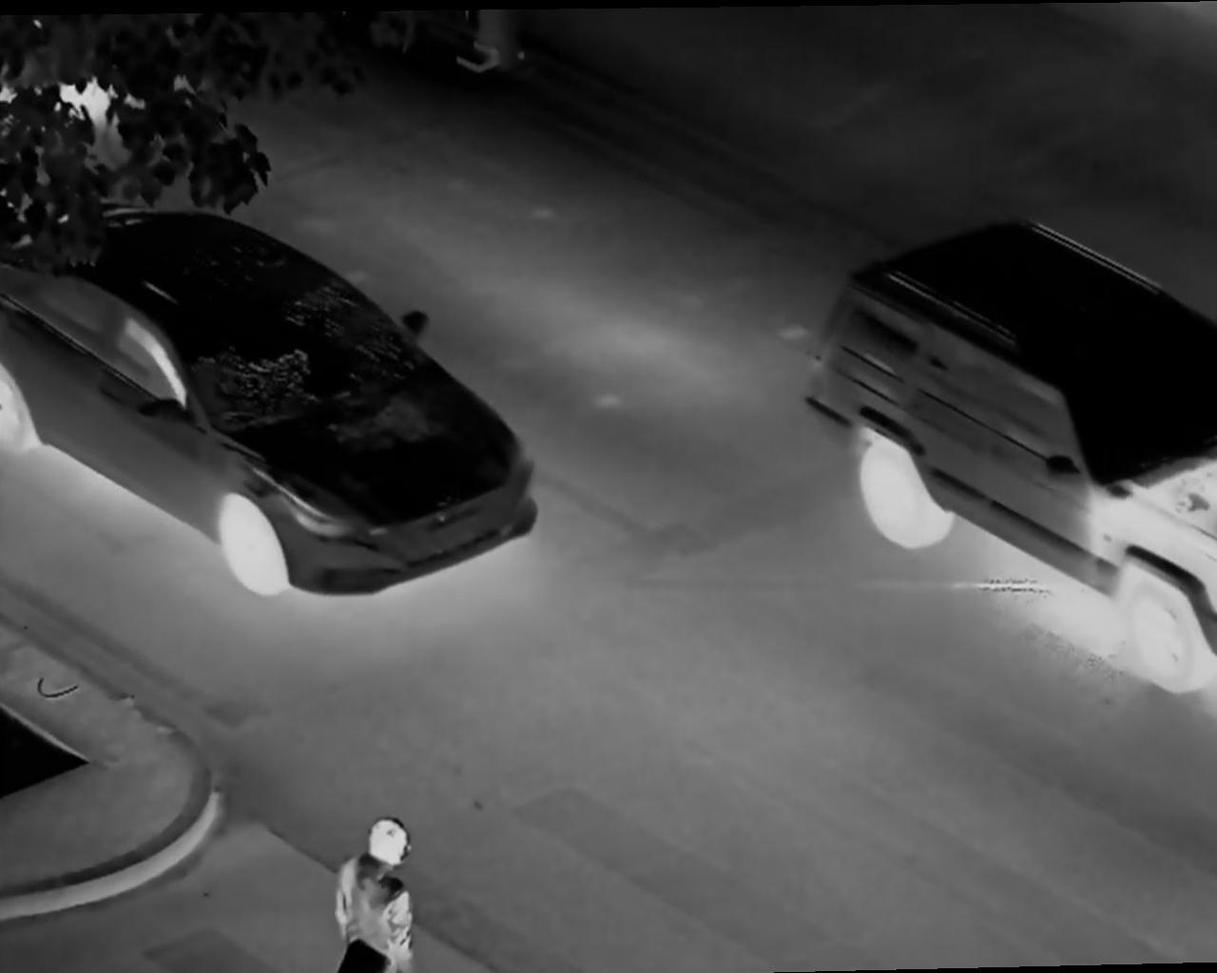person: (332, 813, 435, 973)
